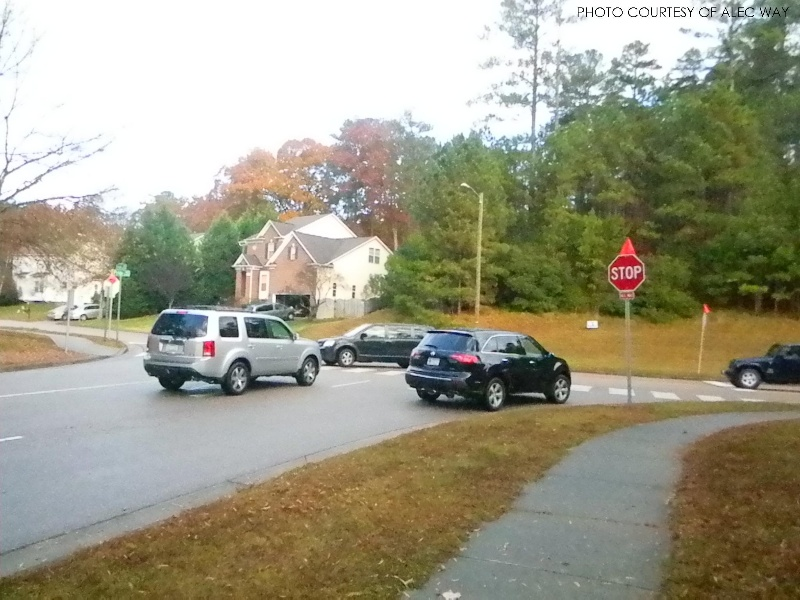stop sign: (606, 252, 647, 292)
